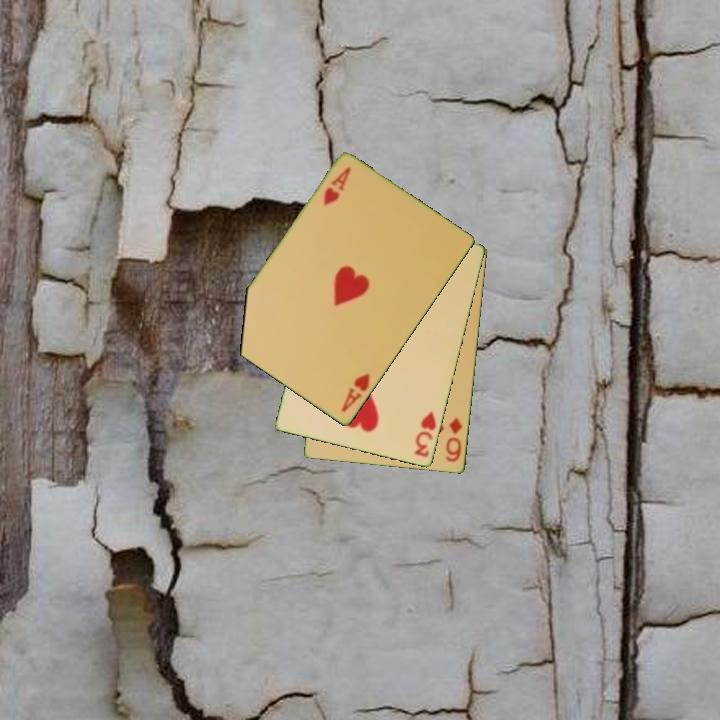3h: (411, 407, 439, 461)
6d: (442, 414, 466, 465)
Ah: (338, 370, 373, 415), (320, 164, 354, 209)
